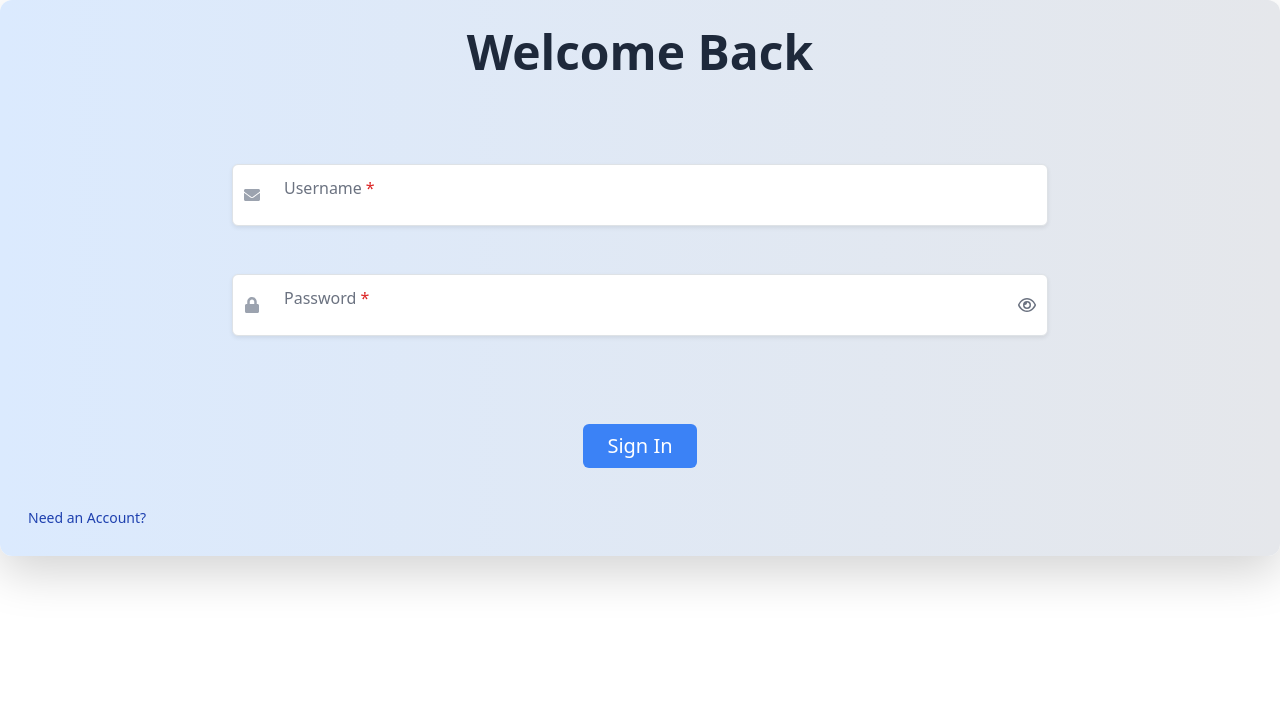
Scenario: SignInForm › displays error when fields are empty
Click the button "Sign In" at (640, 446), box top-left (583, 424), bottom-right (696, 468)
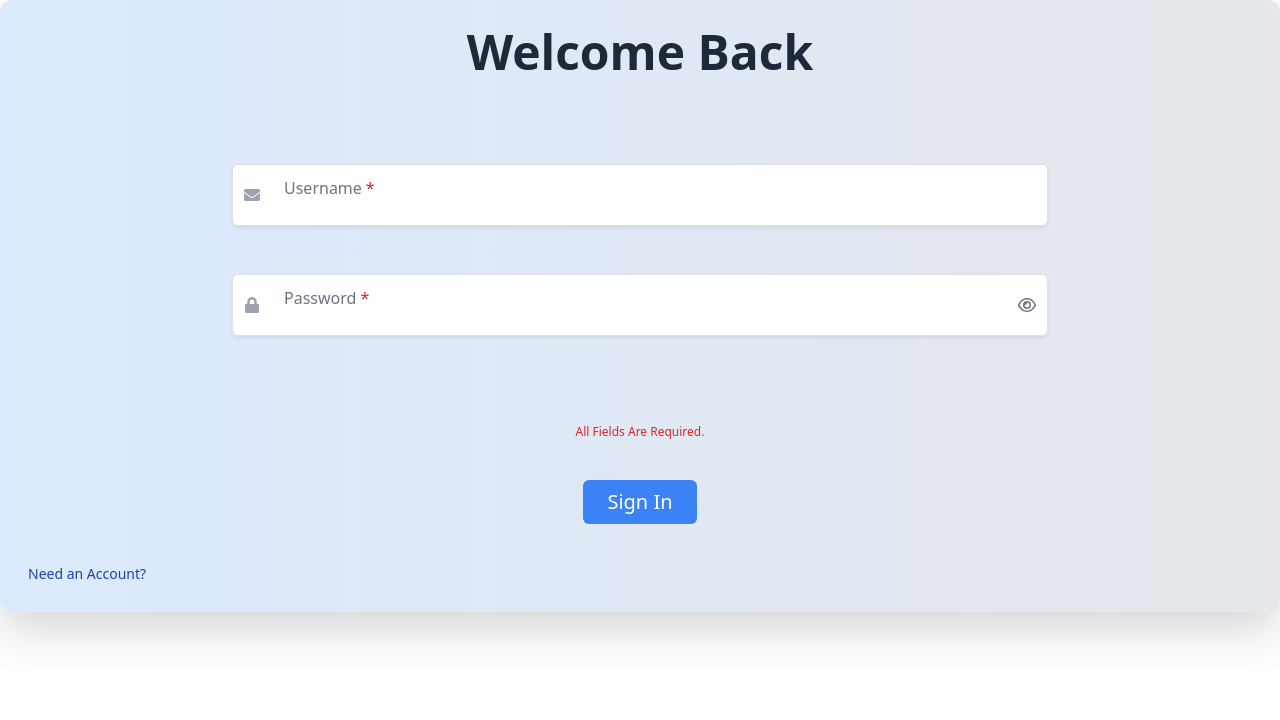
Result: the text "All Fields Are Required." is shown at top-left (576, 424), bottom-right (704, 440)
